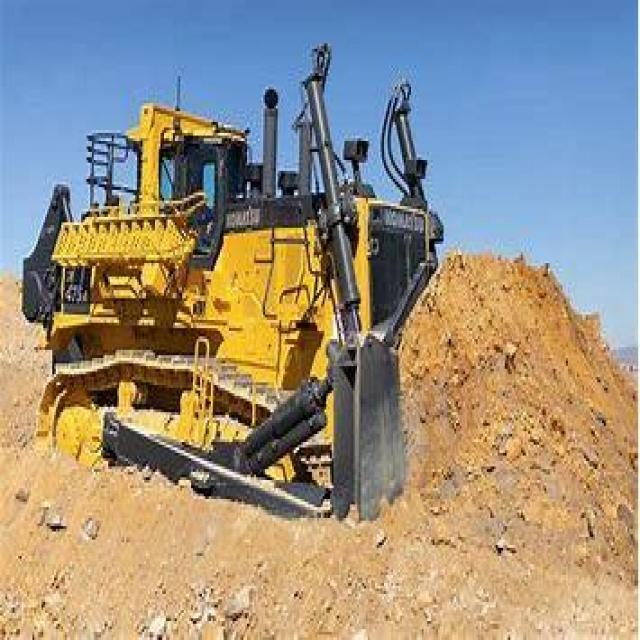Bulldozer: (42, 84, 560, 559)
